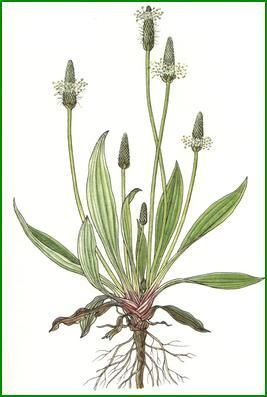buckhorn plantain: (25, 3, 257, 314)
